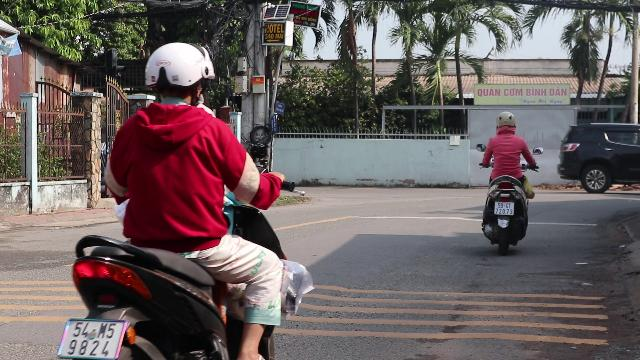helmet: (141, 42, 209, 106), (494, 111, 516, 133)
licenseplate: (58, 319, 126, 357), (494, 201, 514, 215)
motorcyclist: (54, 40, 318, 356), (476, 111, 536, 253)
